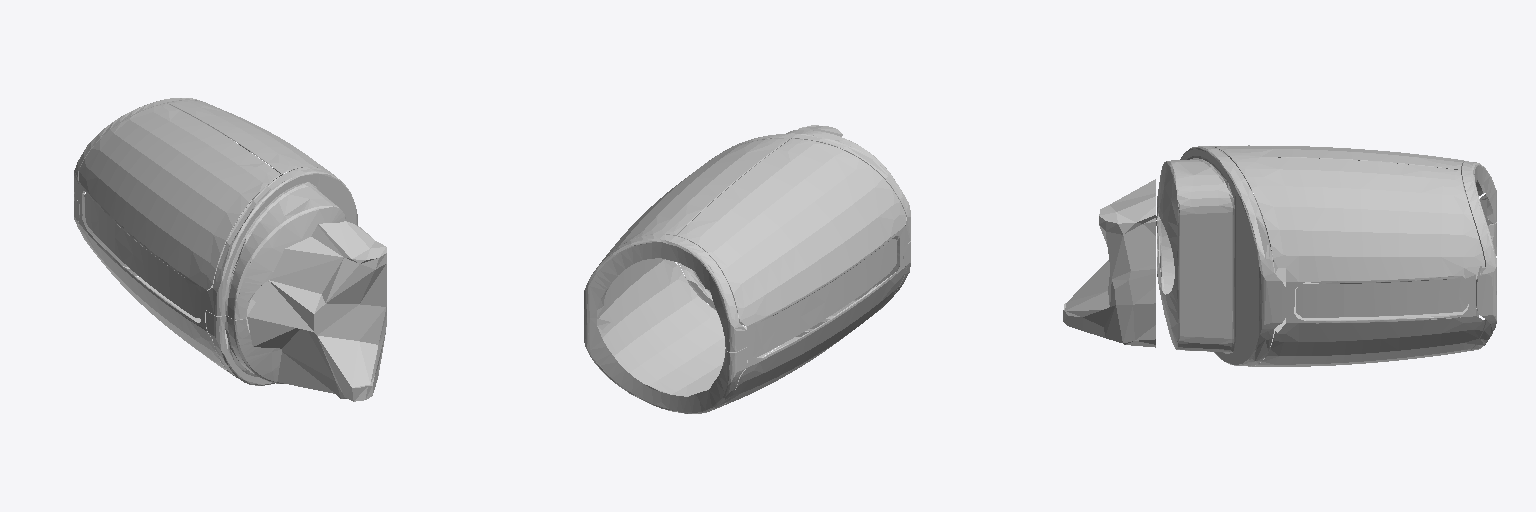
Rendered from sim_ecub_1-0_r_forearm.obj.
3 renders of one model, left to right at view 1: azimuth 30°, elevation 25°; view 2: azimuth 150°, elevation 25°; view 3: azimuth 270°, elevation 25°, orthographic.
Bounding box in the file's own units: 106 × 106 × 209.